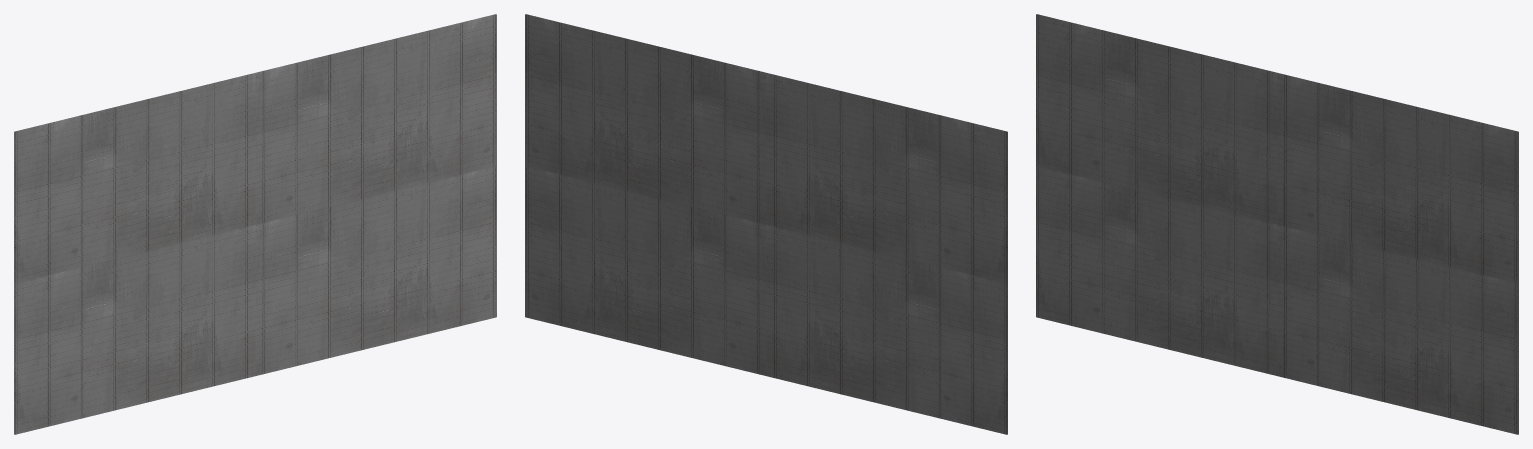
Rendered from FncMeshALngA02.fbx.
The picture shows the model from 3 angles, left to right: view 1: azimuth 30°, elevation 25°; view 2: azimuth 150°, elevation 25°; view 3: azimuth 330°, elevation 25°; orthographic projection.
Parts seen in each view (by area): view 1: FncMeshALngA02; view 2: FncMeshALngA02; view 3: FncMeshALngA02.
Part boxes in pixels (x1,y1,x2,y2): FncMeshALngA02: (14,14,496,434); FncMeshALngA02: (525,14,1007,434); FncMeshALngA02: (1036,14,1518,434).
Size of the model in its own units: 250 by 150 by 0.5.
